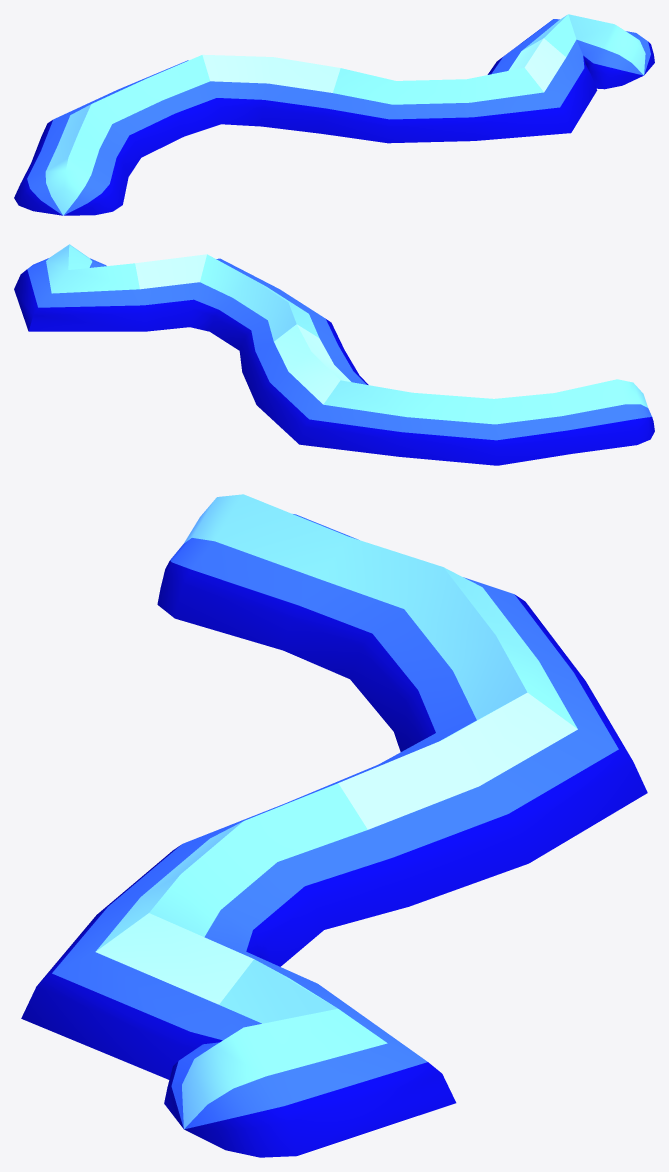
The model's file is shot_lightning_side_200.glb.
The picture shows the model from 3 angles, top to bottom: view 1: azimuth 30°, elevation 25°; view 2: azimuth 150°, elevation 25°; view 3: azimuth 270°, elevation 25°; orthographic projection. The views are drawn at different scales.
Parts seen in each view (by area): view 1: shot_lightning_side_200_0; view 2: shot_lightning_side_200_0; view 3: shot_lightning_side_200_0.
Part boxes in pixels (x1,y1,x2,y2): shot_lightning_side_200_0: (14,14,654,215); shot_lightning_side_200_0: (14,244,654,465); shot_lightning_side_200_0: (21,494,647,1157).
Size of the model in its own units: 13.86 by 0.959 by 5.96.
